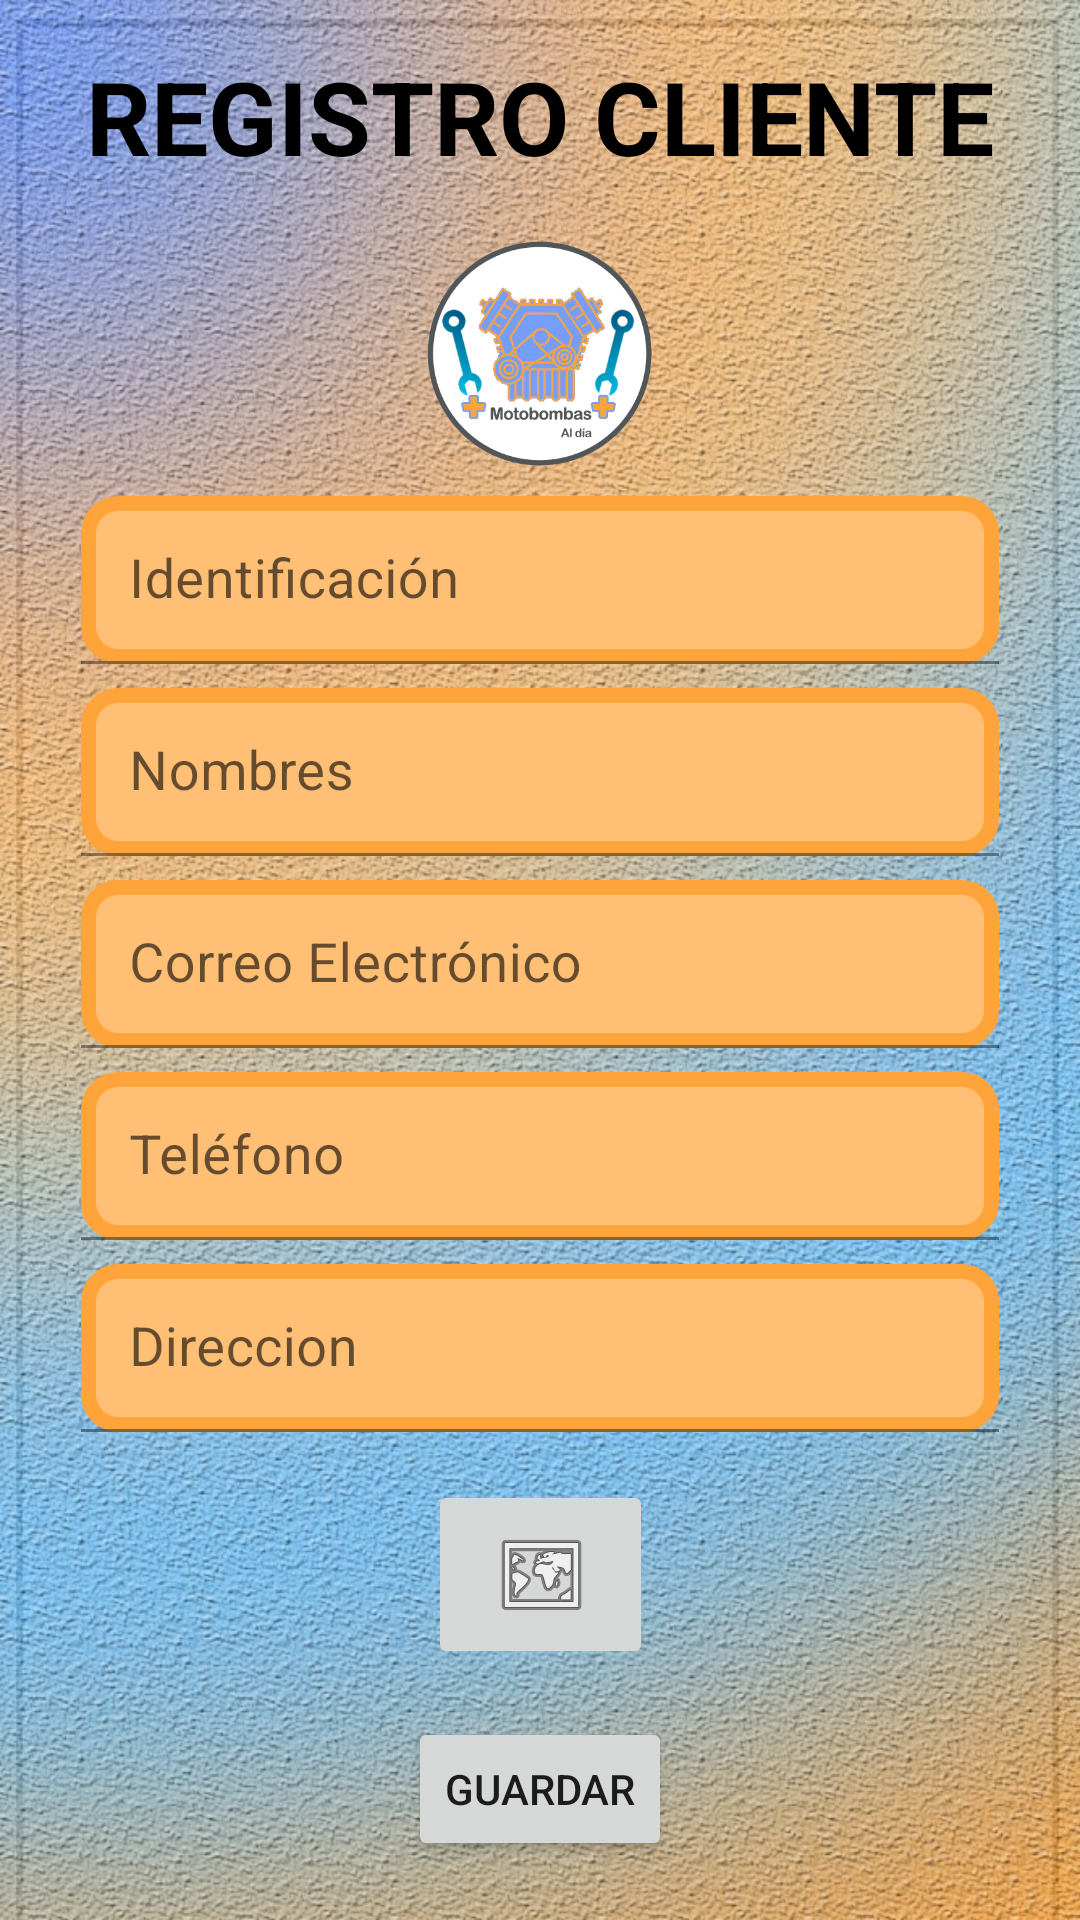

Where to tap for icons on this 1080w x 1920h app screen, as (x=x, y=y):
Mapa: (x=540, y=1574)
